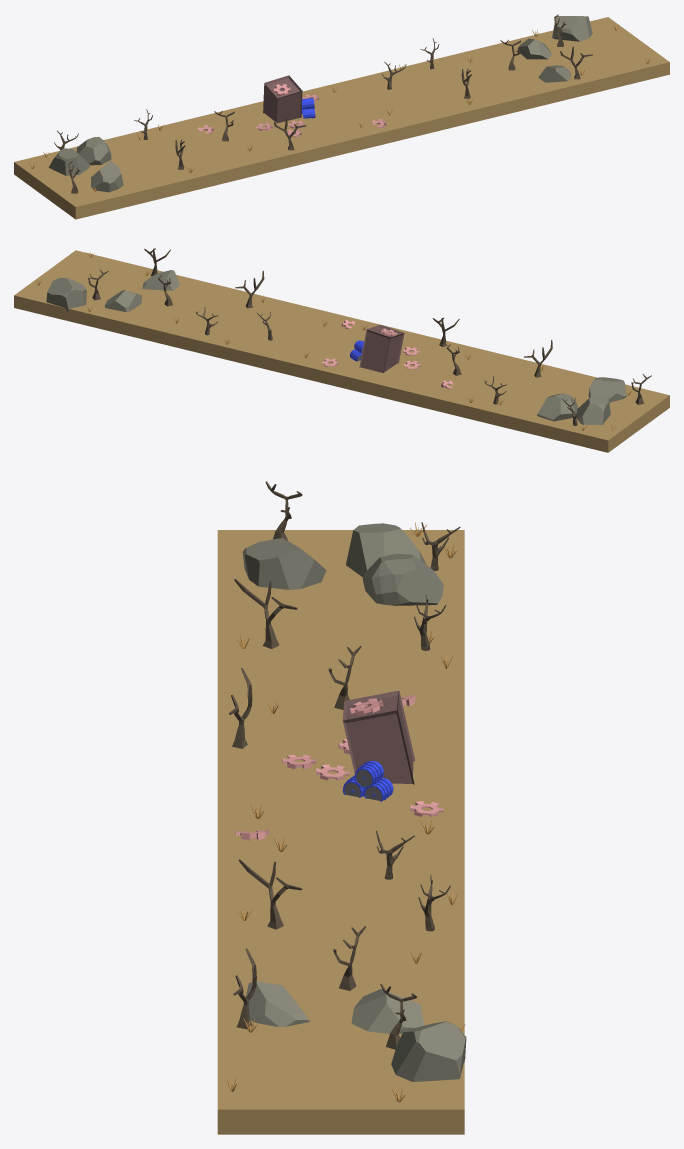
File: Fora-FerroVelho-3.glb
3 renders of one model, top to bottom at view 1: azimuth 30°, elevation 25°; view 2: azimuth 150°, elevation 25°; view 3: azimuth 270°, elevation 25°, orthographic. The views are drawn at different scales.
Visible parts, largest first — view 1: CHAO.010, CONTAINER.007, PEDRA.037, PEDRA.034, PEDRA.032, PEDRA.033, PEDRA.035, PEDRA.036; view 2: CHAO.010, CONTAINER.007, PEDRA.037, PEDRA.034, PEDRA.033, PEDRA.032, PEDRA.035, PEDRA.036; view 3: CHAO.010, CONTAINER.007, PEDRA.037, PEDRA.033, PEDRA.032, PEDRA.034, PEDRA.035, PEDRA.036.
Boxes of the visible parts, left/top/right/bottom form: CHAO.010: left=14, top=17, right=669, bottom=219; CONTAINER.007: left=263, top=75, right=302, bottom=123; PEDRA.037: left=552, top=16, right=592, bottom=41; PEDRA.034: left=48, top=148, right=89, bottom=175; PEDRA.032: left=91, top=161, right=123, bottom=192; PEDRA.033: left=76, top=137, right=111, bottom=165; PEDRA.035: left=517, top=38, right=551, bottom=59; PEDRA.036: left=538, top=65, right=570, bottom=82; CHAO.010: left=14, top=250, right=669, bottom=452; CONTAINER.007: left=359, top=324, right=404, bottom=372; PEDRA.037: left=46, top=278, right=86, bottom=311; PEDRA.034: left=576, top=394, right=610, bottom=424; PEDRA.033: left=537, top=393, right=577, bottom=421; PEDRA.032: left=588, top=377, right=626, bottom=402; PEDRA.035: left=104, top=290, right=142, bottom=312; PEDRA.036: left=142, top=270, right=180, bottom=290; CHAO.010: left=217, top=530, right=464, bottom=1134; CONTAINER.007: left=342, top=690, right=415, bottom=784; PEDRA.037: left=391, top=1021, right=466, bottom=1081; PEDRA.033: left=362, top=553, right=443, bottom=605; PEDRA.032: left=242, top=538, right=326, bottom=589; PEDRA.034: left=346, top=523, right=425, bottom=577; PEDRA.035: left=351, top=989, right=424, bottom=1033; PEDRA.036: left=245, top=981, right=309, bottom=1026.
Size of the model in its own units: 50 by 4.61 by 9.07.
